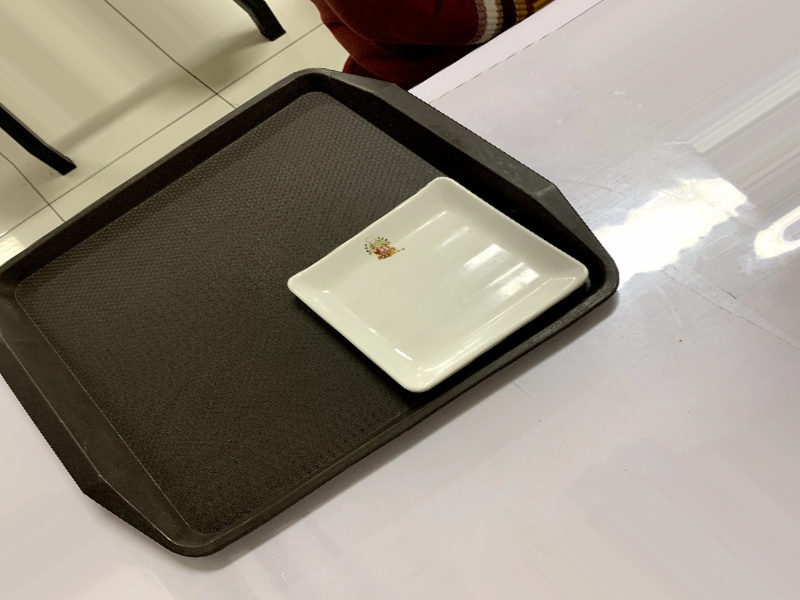dish4: (264, 152, 609, 410)
